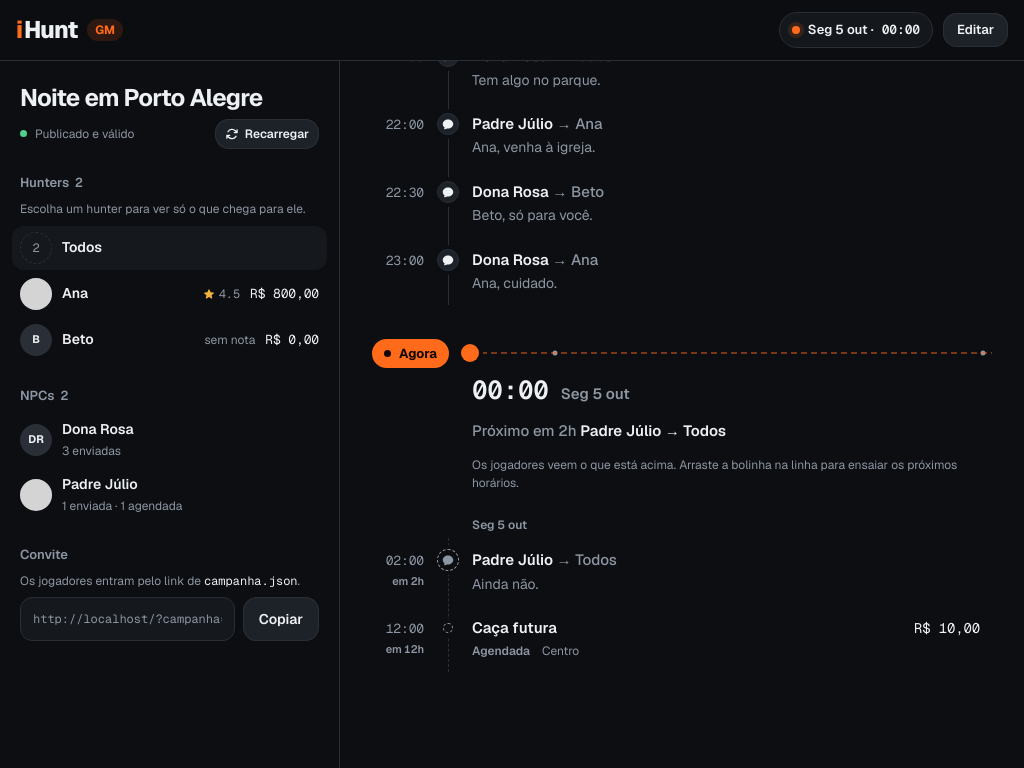
Scenario: GM view › names the next scheduled item at Agora and opens it
(page scrolled)
Click the button "Próximo em 2h Padre Júlio → Todos".
click(599, 431)  # box top-left (462, 414), bottom-right (736, 448)
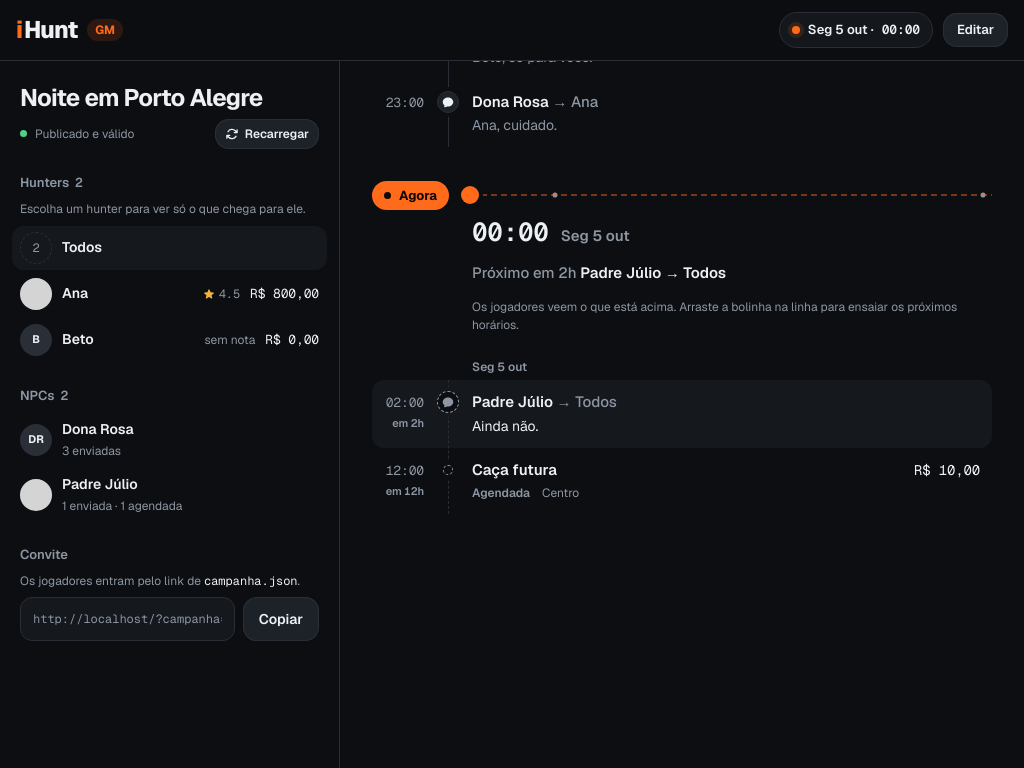
Expected: the button "Ainda não." is expanded, top-left (372, 380), bottom-right (992, 448)
